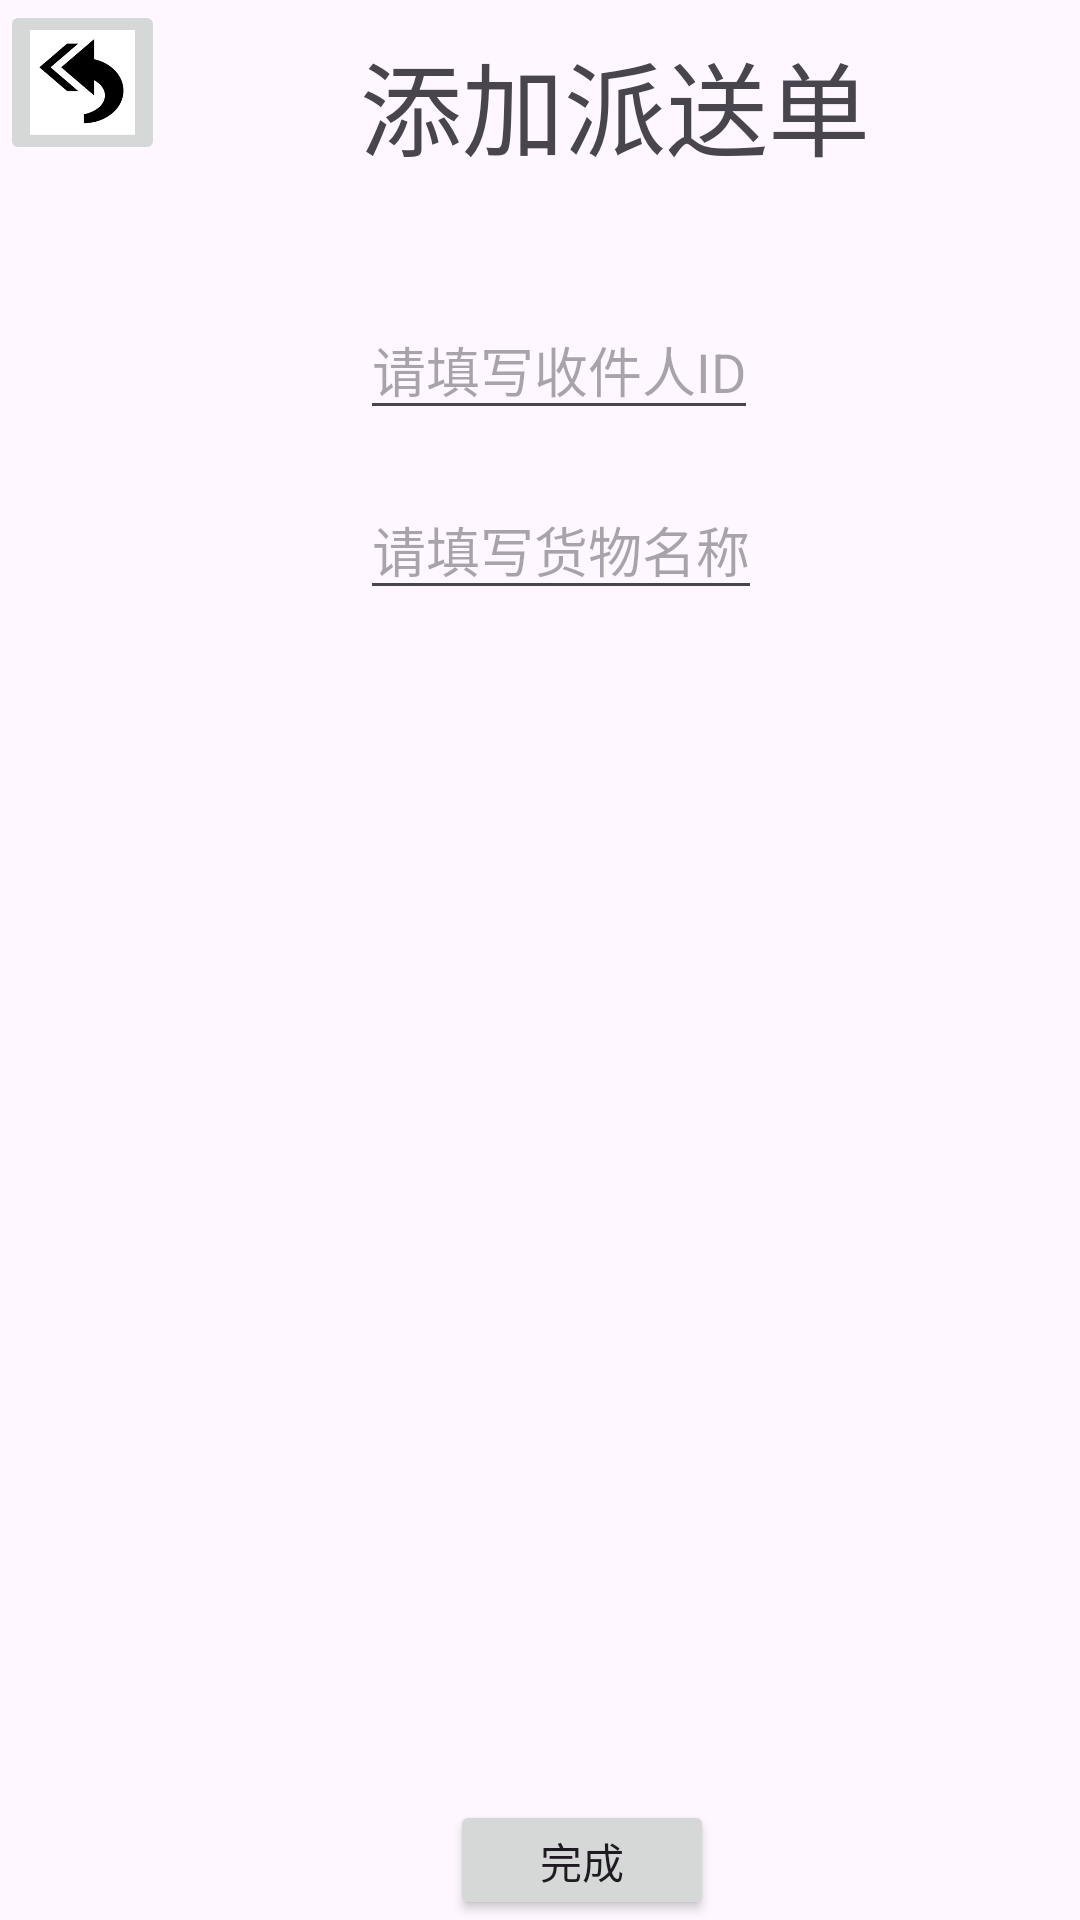

Where to tap for icons on this 1080w x 1920h app screen, as (x=x, y=y):
back: (x=82, y=82)
